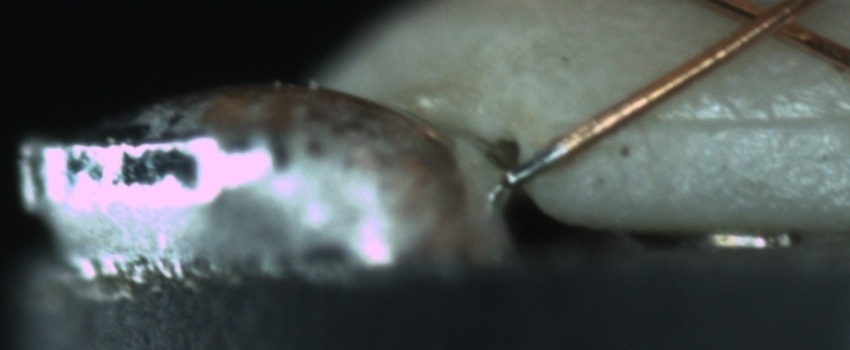CL: (725, 1, 816, 47)
DL: (629, 85, 844, 156)
TS: (510, 140, 569, 187)
TTCW: (510, 129, 578, 188)
